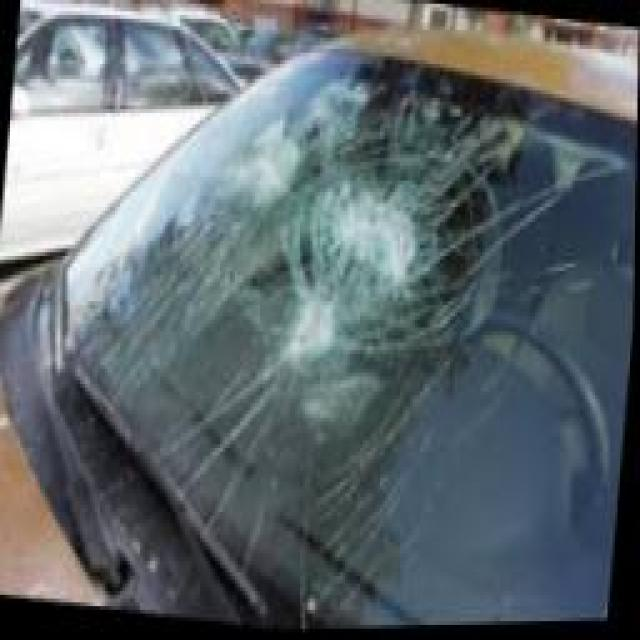Windshield: (37, 44, 638, 632)
